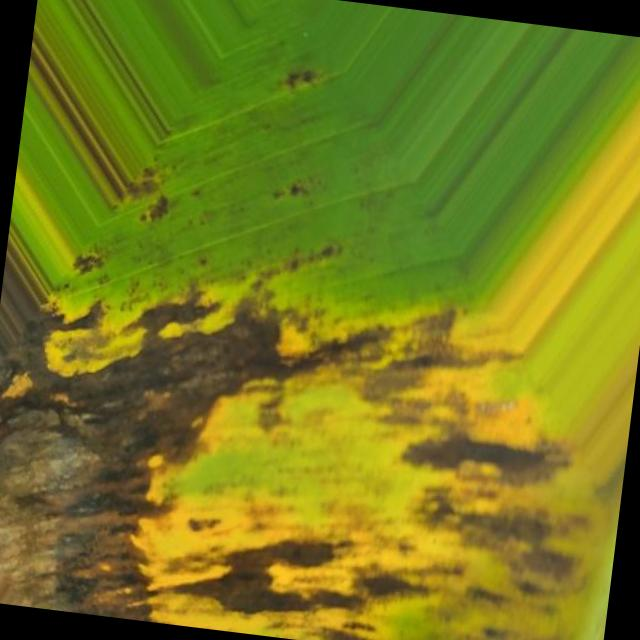Banana_Black_Sigatoka: (0, 257, 599, 640)
